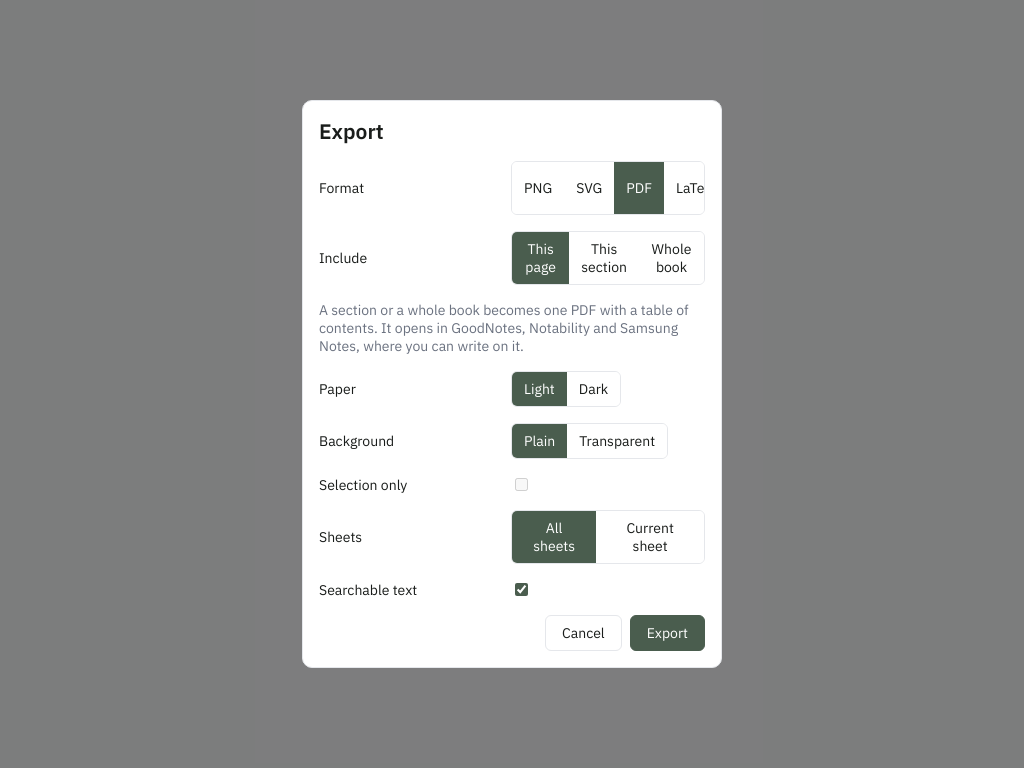
Test case: ExportDialog covers › section and book as one PDF › hides what only one page can use, and offers covers and flattened annotations
Expected: the element "sheets" is shown, [511, 510, 705, 564]
Expected: the checkbox labelled "Selection only" is shown, [515, 478, 528, 491]
Click the button "Whole book". click: (672, 258)
box: [639, 232, 704, 284]
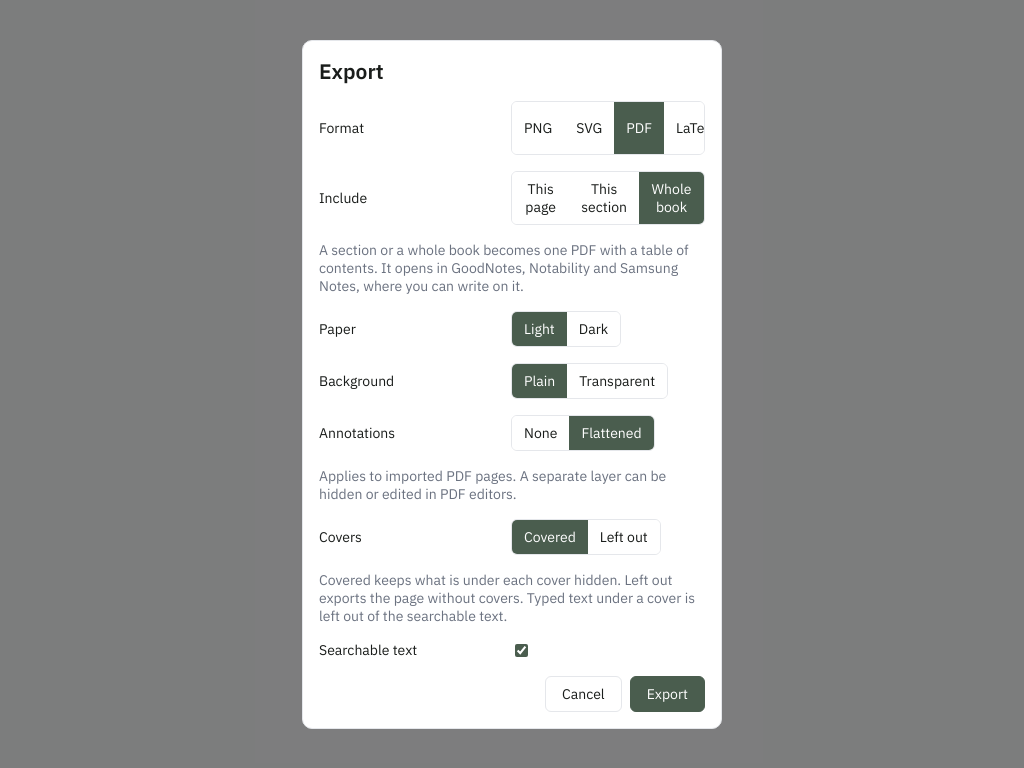
Result: the text "Sheets" is gone
Result: the text "Selection only" is gone
Result: the element named "Annotations" is shown at [511, 414, 655, 450]
